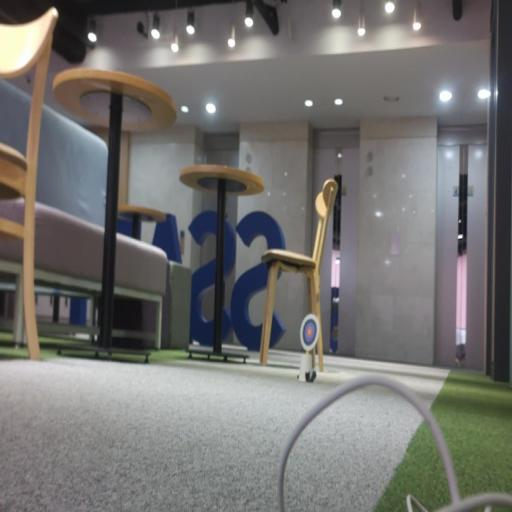target: (300, 314, 319, 352)
